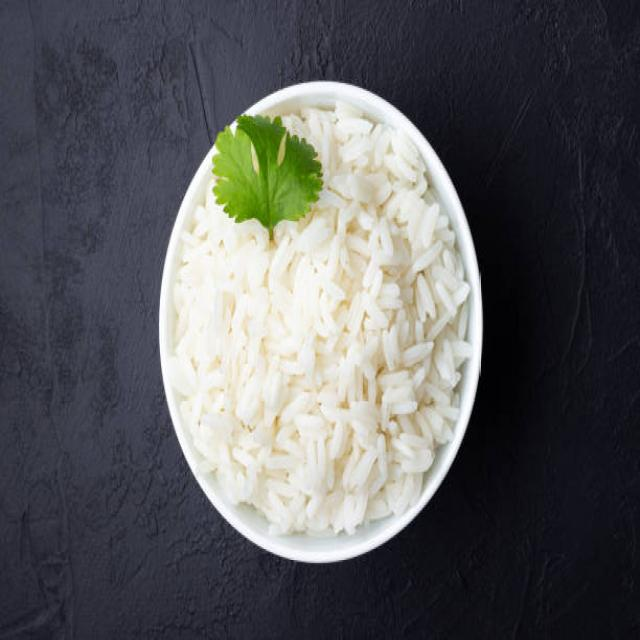Rice: (164, 102, 474, 536)
